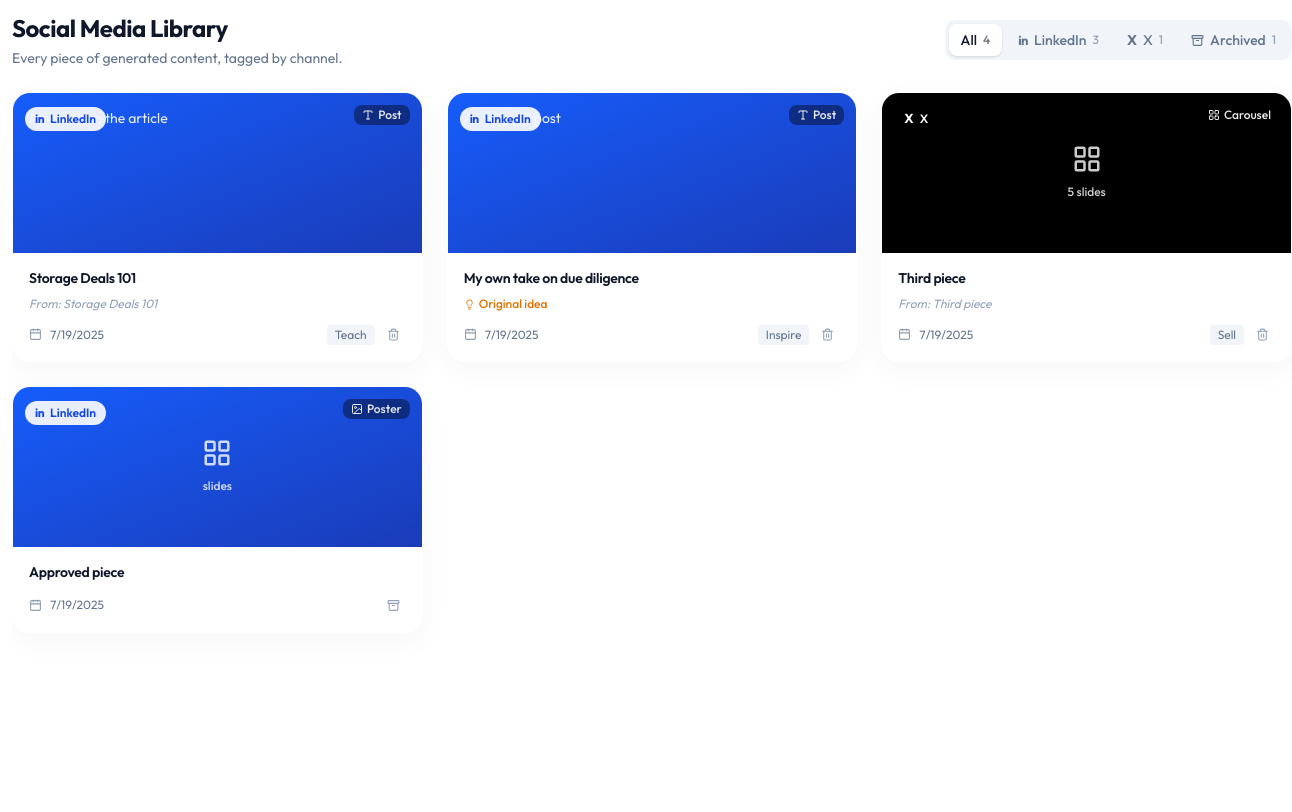
SocialLibrary › filters by channel
Expected: the heading "Storage Deals 101" is shown, [29,269,136,287]
Click the button "X X 1" at point(1145, 40), box [1115,24,1175,56]
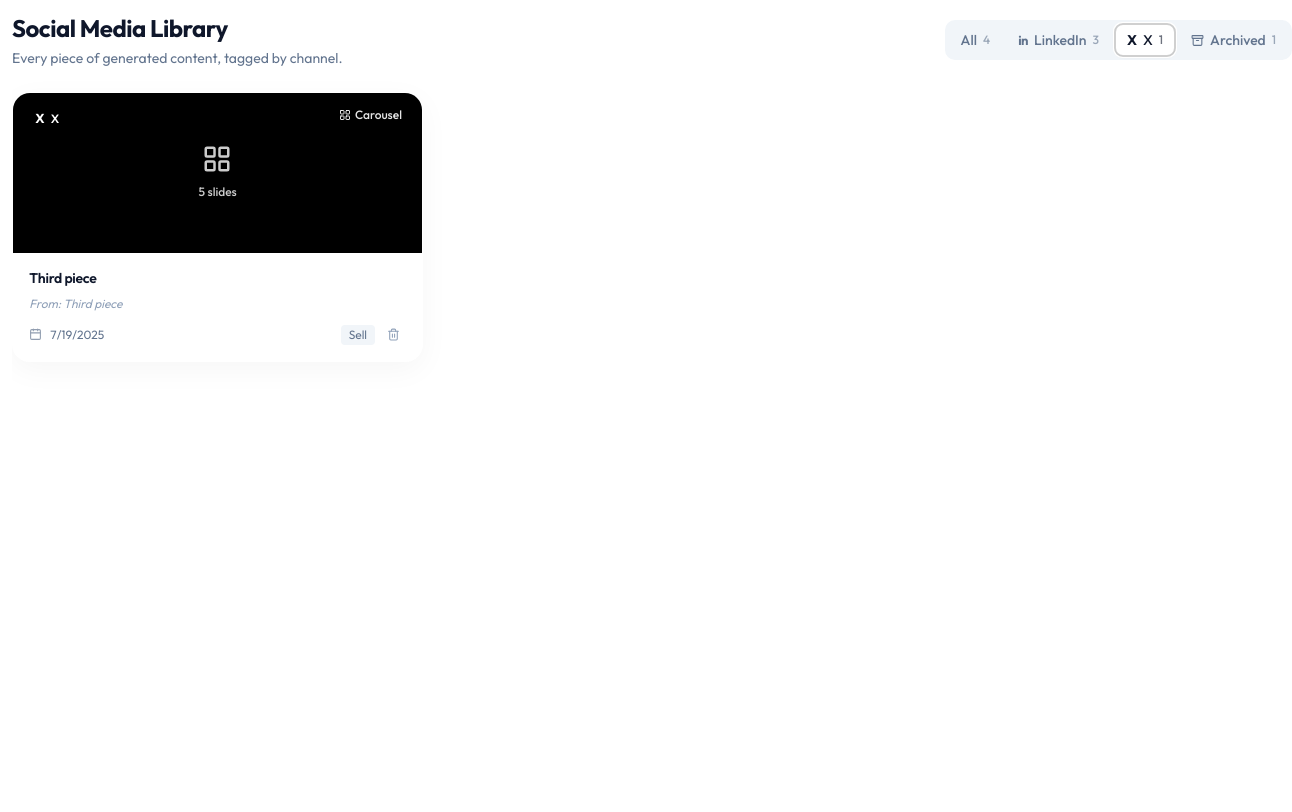
Expected: the heading "Third piece" is shown, [29,269,96,287]
Result: the heading "Storage Deals 101" is gone
